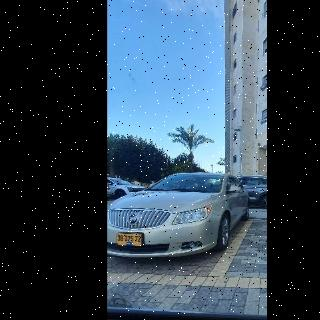LicensePlate: (117, 234, 141, 242)
